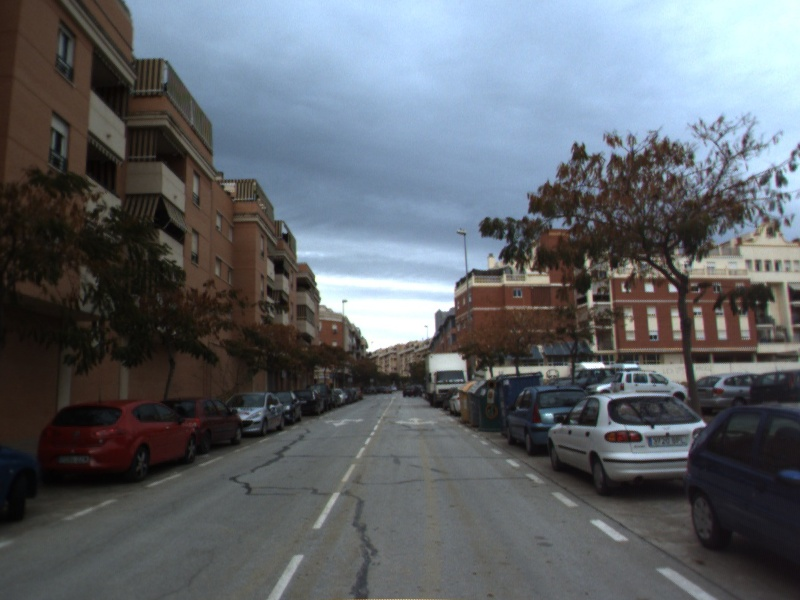STRAIGHT_LEFT_RIGHT: (393, 414, 441, 428)
